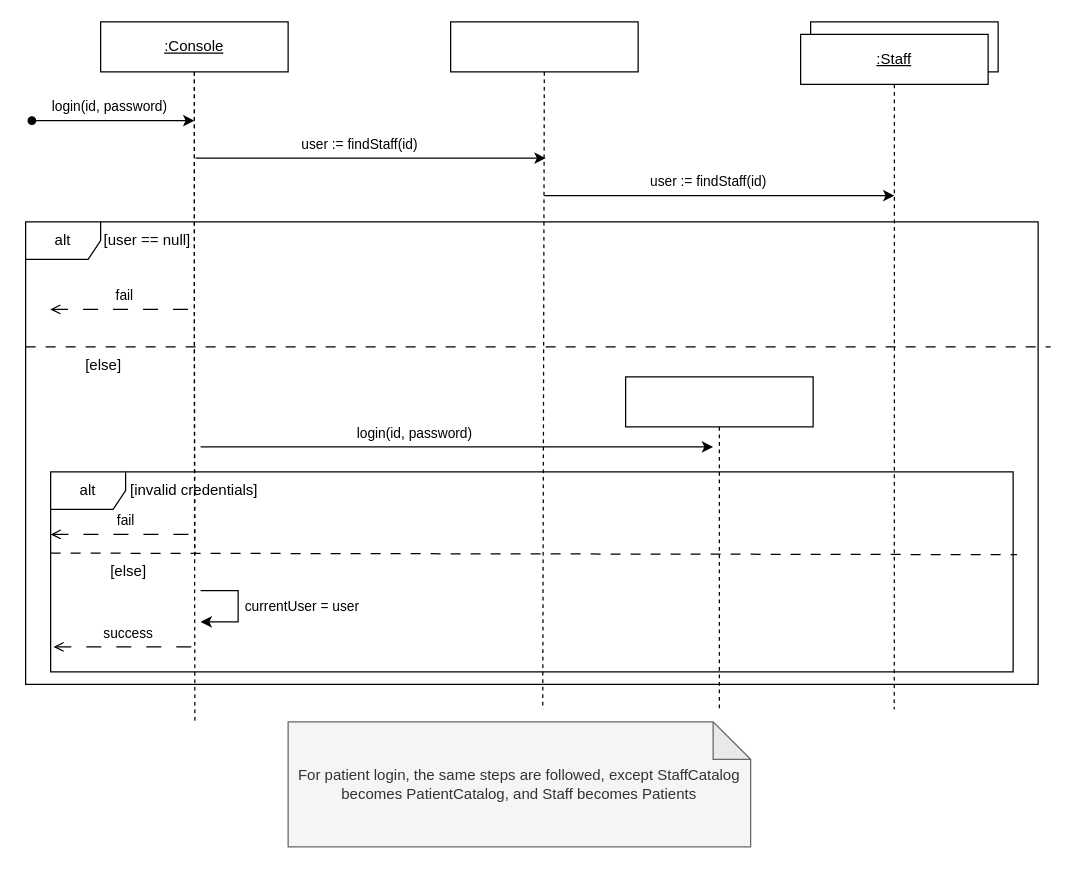
This 1074x869 diagram has some shape labels left out. The centre of each missing label's shape, as x and y in pixels:
:StaffCatalog: [543,46]
user:User: [718,401]
